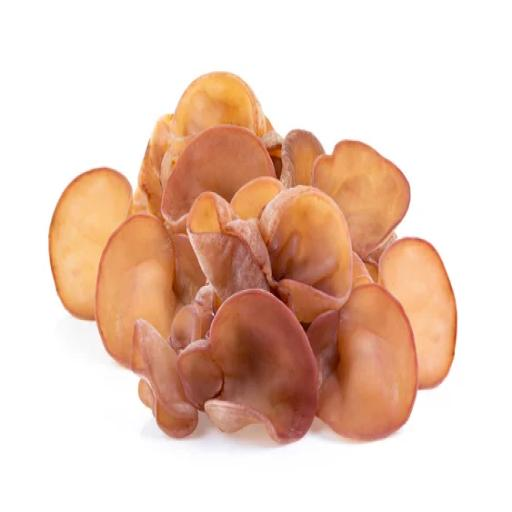Wood Ear Mushroom: (42, 68, 464, 463)
